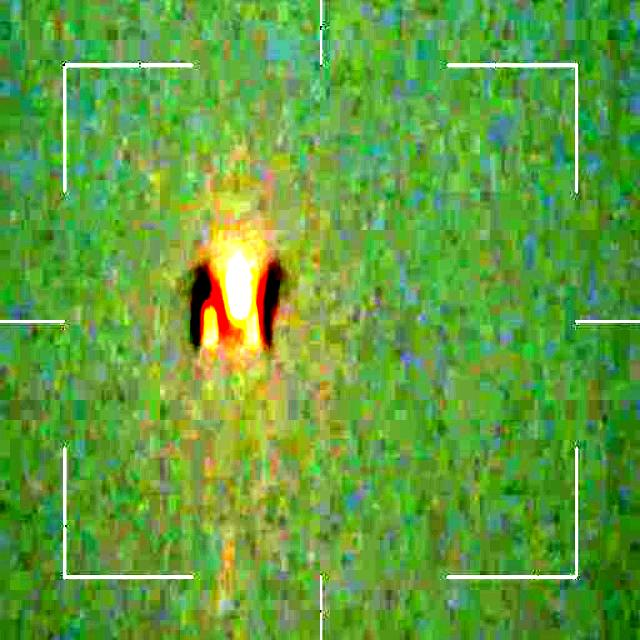bird: (184, 251, 284, 355)
